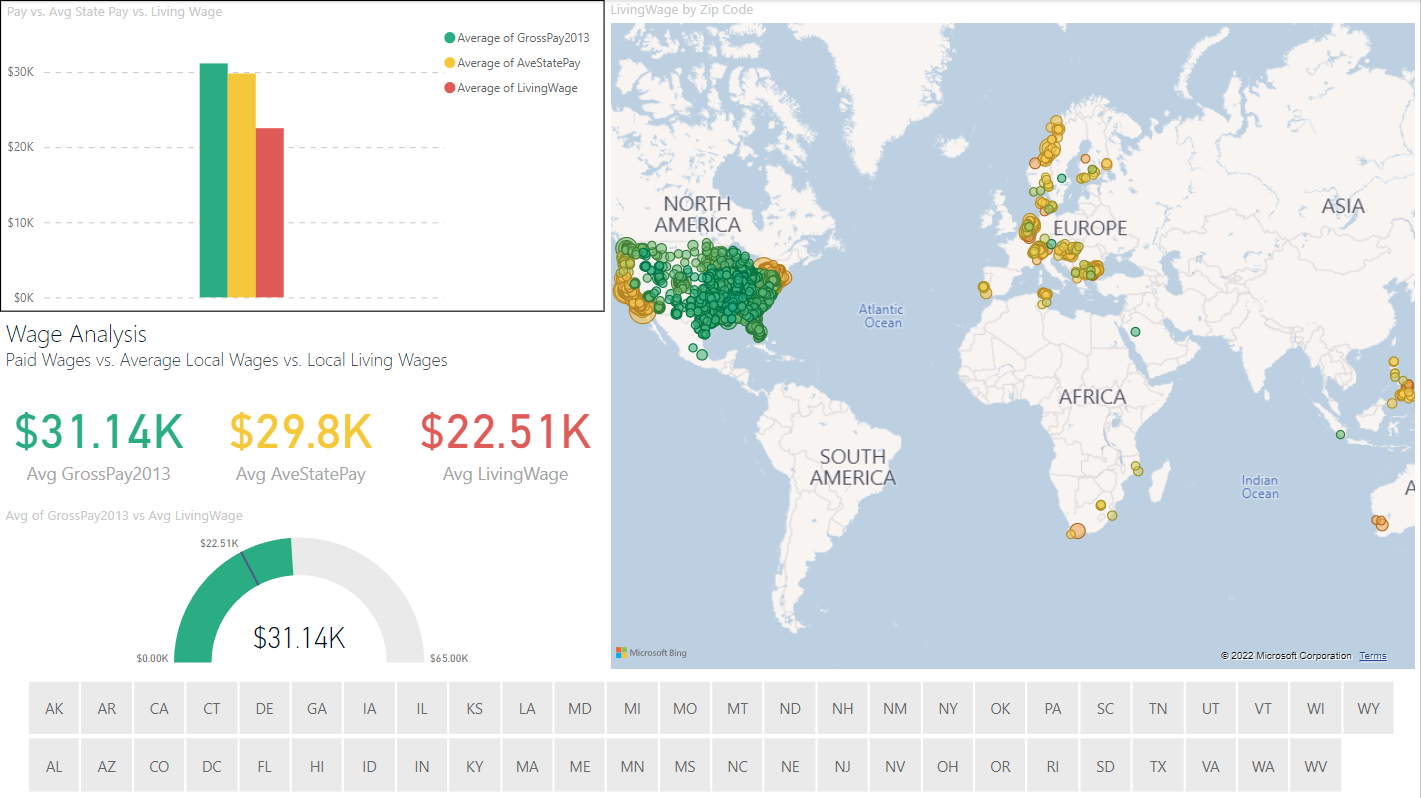

The page's visual inventory and layout, read from the dashboard file:
{"tool":"powerbi","page":{"name":"Local Wage Analysis","canvas":[1280,720],"ordinal":0},"visuals":[{"type":"clusteredColumnChart","title":"Pay vs. Avg State Pay vs. Living Wage","fields":{"Y":["Avg(Employees.GrossPay2013)","Avg(Employees.AveStatePay)","Avg(Employees.LivingWage)"]},"box":[0,0,545.2,280.8],"z":1000},{"type":"map","fields":{"Size":["Sum(Employees.LivingWage)"],"Category":["Employees.Zip Code"]},"box":[545.4,0,734.6,607.5],"z":2000},{"type":"card","fields":{"Values":["Avg(Employees.GrossPay2013)"]},"box":[0,338.9,204.6,110.9],"z":3000},{"type":"card","fields":{"Values":["Avg(Employees.AveStatePay)"]},"box":[198.3,338.9,187.5,110.9],"z":4000},{"type":"card","fields":{"Values":["Avg(Employees.LivingWage)"]},"box":[385.8,338.9,159.5,110.9],"z":5000},{"type":"textbox","box":[0,280.3,545.4,58.6],"z":6000},{"type":"slicer","fields":{"Values":["Employees.State"]},"box":[0,607.5,1280,112.7],"z":7000},{"type":"gauge","title":"Avg of GrossPay2013 vs Avg LivingWage","fields":{"Y":["Avg(Employees.GrossPay2013)"],"TargetValue":["Avg(Employees.LivingWage)"]},"box":[0,456.1,545.4,151.4],"z":9000}]}

Visuals, with their boxes in screenshot pixels (x1, y1, x2, y2), scaled from the page's 1280x720 canvas onto the 1421x798 screenshot:
"Pay vs. Avg State Pay vs. Living Wage" clusteredColumnChart: locate(0, 0, 605, 311)
map - Sum(Employees.LivingWage) x Employees.Zip Code: locate(605, 0, 1420, 673)
card - Avg(Employees.GrossPay2013): locate(0, 376, 227, 499)
card - Avg(Employees.AveStatePay): locate(220, 376, 428, 499)
card - Avg(Employees.LivingWage): locate(428, 376, 605, 499)
textbox: locate(0, 311, 605, 376)
slicer - Employees.State: locate(0, 673, 1420, 797)
"Avg of GrossPay2013 vs Avg LivingWage" gauge: locate(0, 506, 605, 673)
